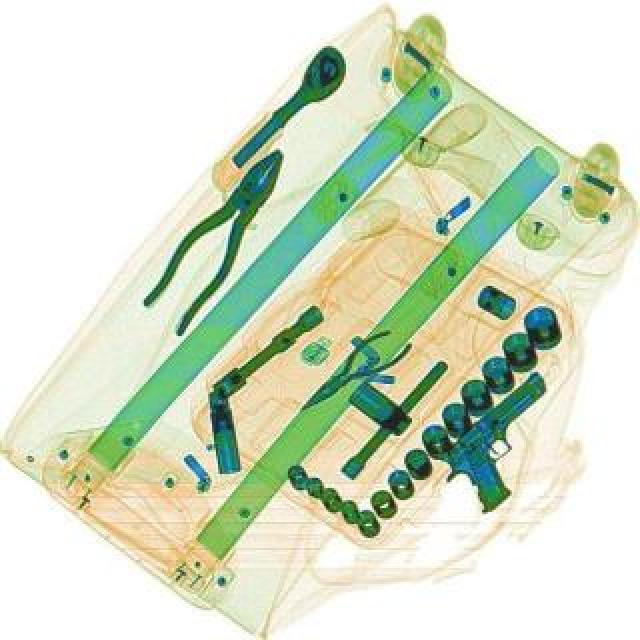gun: (426, 370, 592, 518)
wrench: (128, 134, 304, 338), (288, 318, 418, 422)
